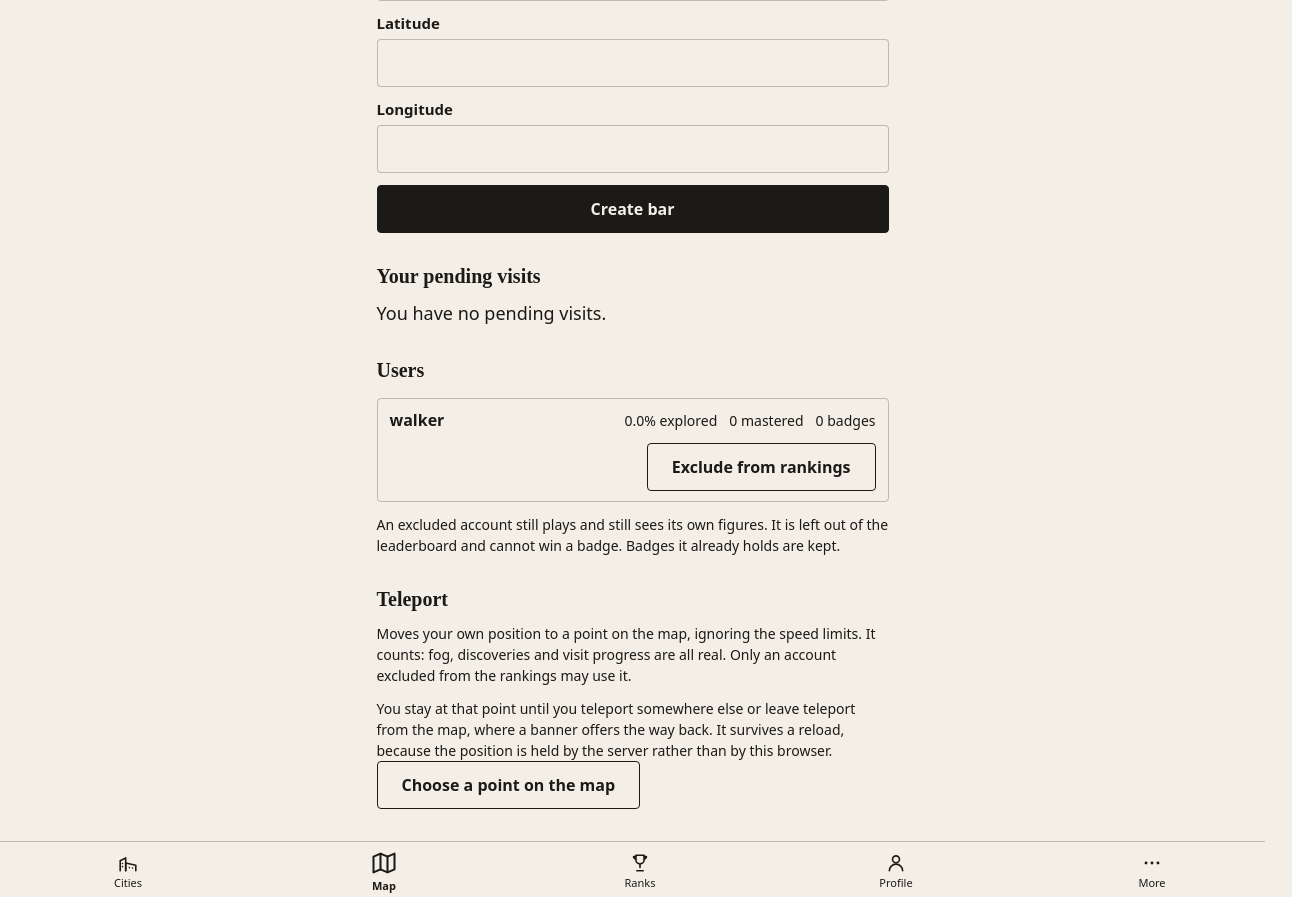
Test case: admin ranking exclusion › surfaces the server's message when the change is refused, leaving the row alone
The image size is (1292, 897).
(page scrolled)
Click the button with class "admin-user-row__toggle" at [761, 467], box [647,443,876,491]
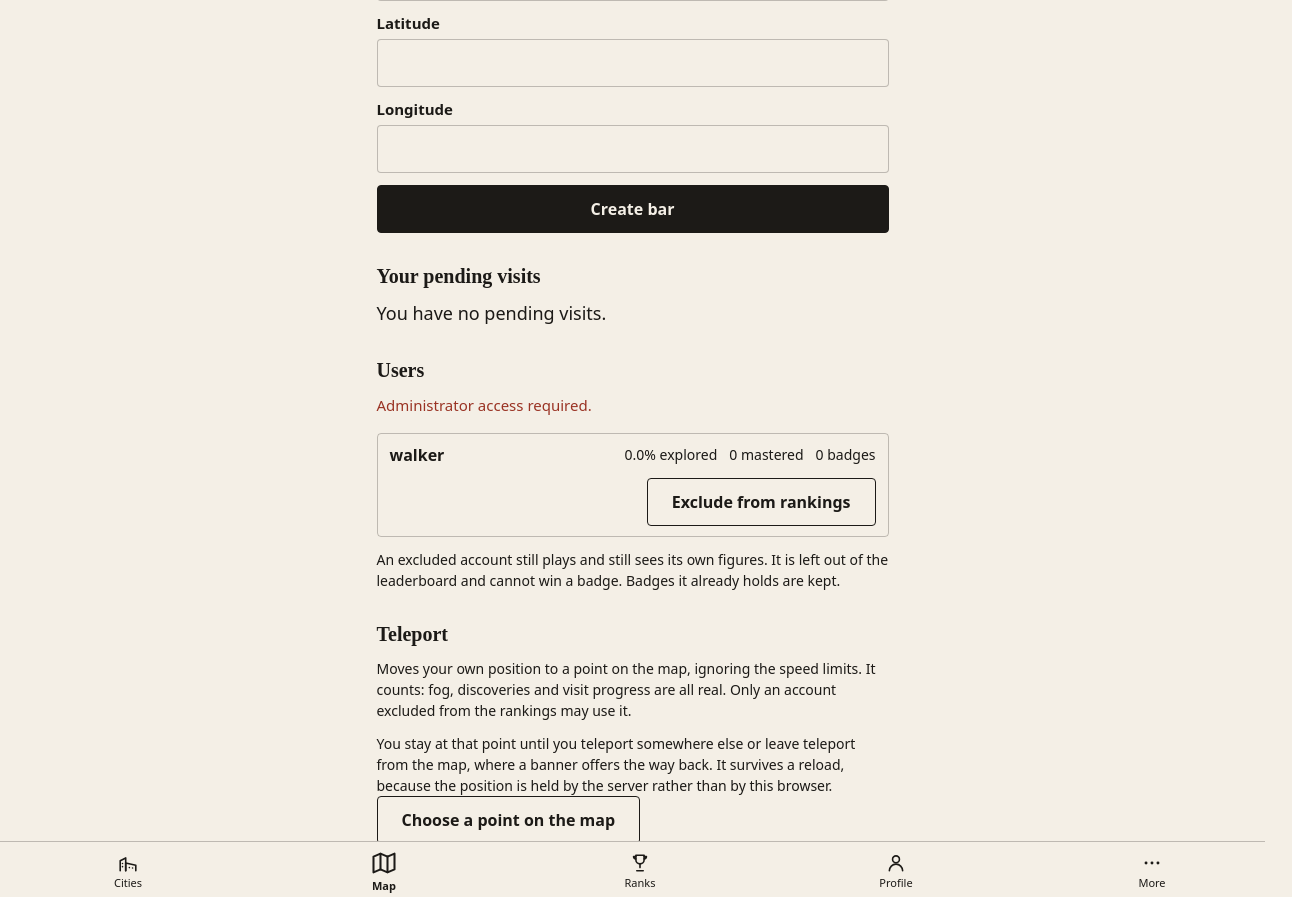
Expected: the button with class "admin-user-row__toggle" reads "Exclude from rankings", [647,478,876,526]
Now the message with class "error-message" reads "Administrator access required.", box [376,395,592,415]
